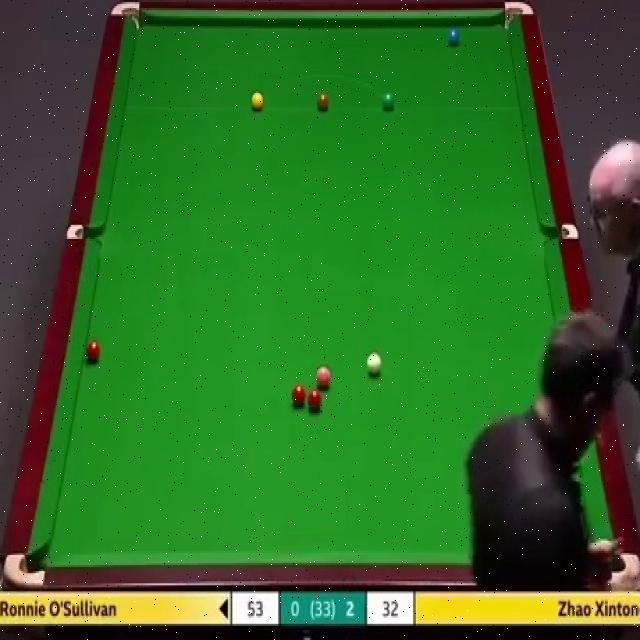blue-ball: (446, 27, 462, 47)
brown-ball: (316, 93, 330, 110)
green-ball: (381, 89, 396, 113)
pink-ball: (315, 365, 332, 388)
red-ball: (86, 339, 102, 363), (308, 388, 322, 415), (291, 383, 306, 406)
white-ball: (366, 352, 383, 378)
yellow-ball: (250, 90, 264, 111)
